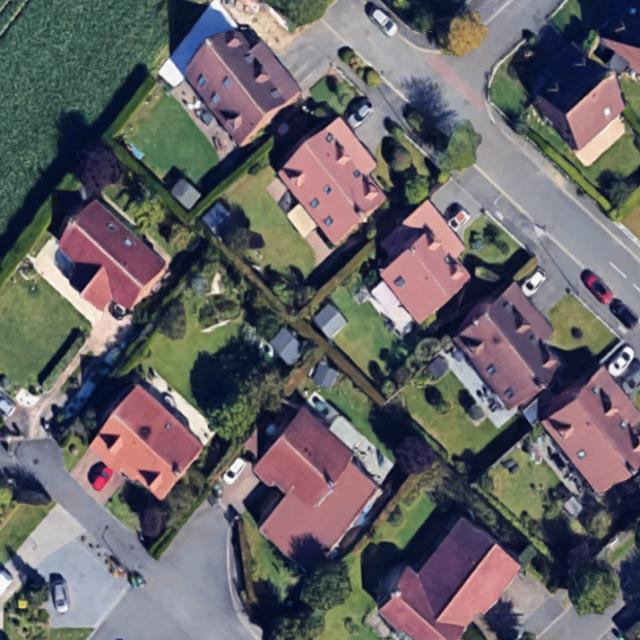maison: (220, 406, 387, 576), (365, 504, 521, 640), (440, 279, 581, 421), (38, 196, 174, 329), (175, 12, 307, 149), (270, 113, 402, 248), (526, 356, 640, 502), (359, 198, 486, 327), (81, 383, 208, 510), (527, 41, 639, 151)
